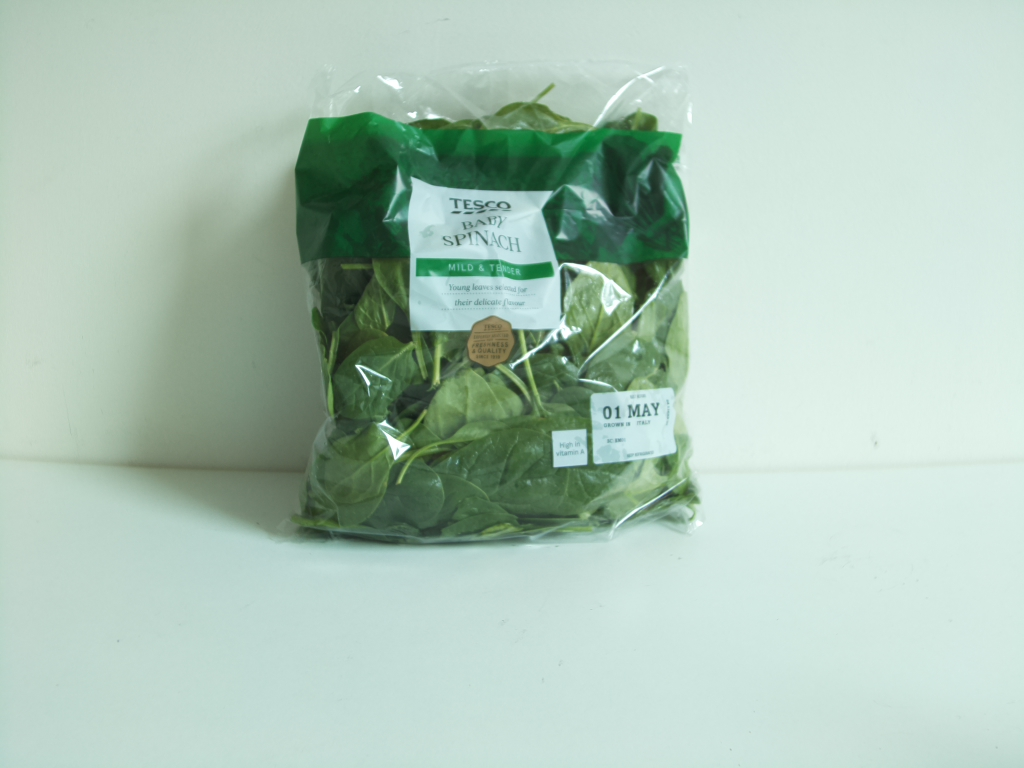salad: (294, 101, 698, 540)
